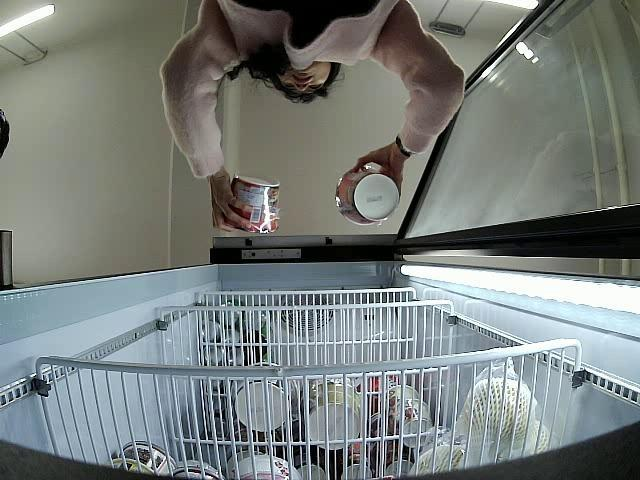01_ShinRamen_L: (335, 164, 401, 226), (228, 175, 280, 237)
